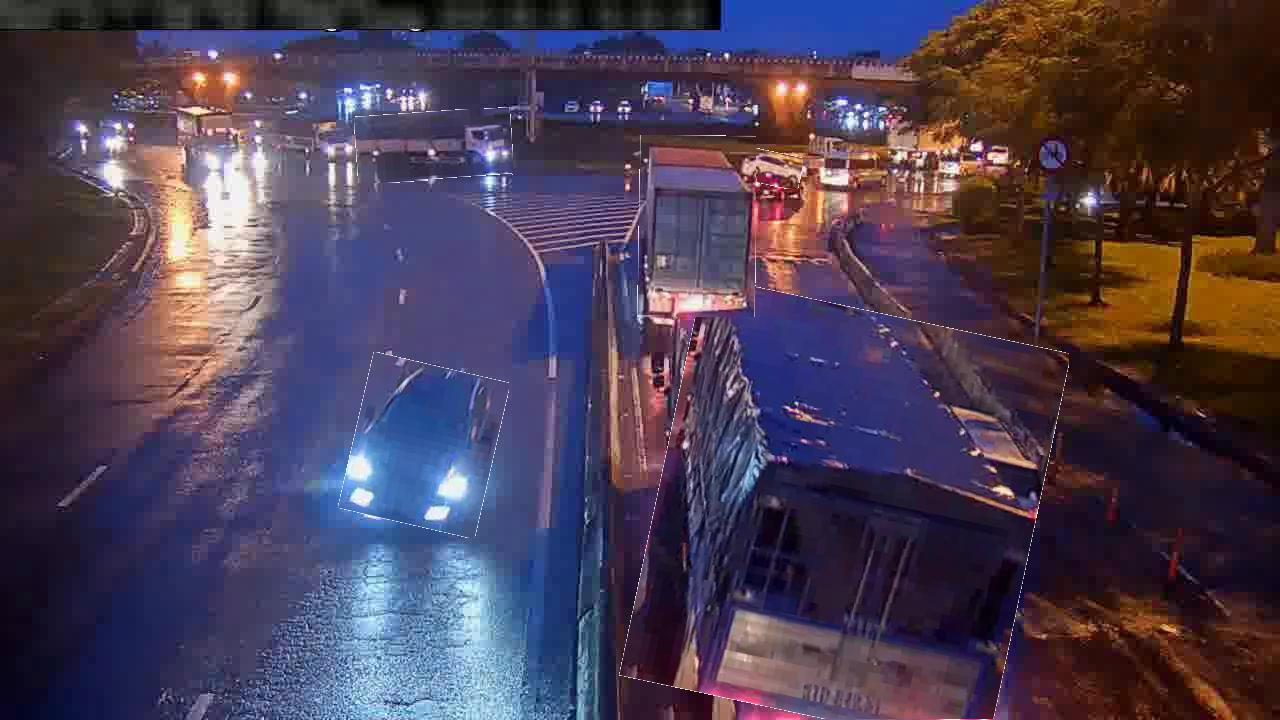8: (638, 293, 1052, 719), (638, 136, 757, 318), (355, 110, 513, 182)
container: (346, 359, 502, 533), (741, 149, 803, 188)
